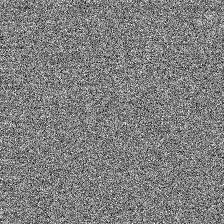cavities: (113, 66, 181, 130)
